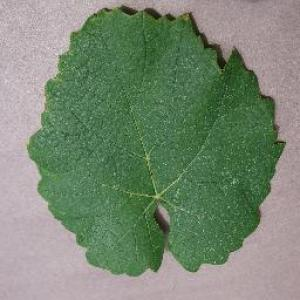Folha: (26, 3, 286, 276)
